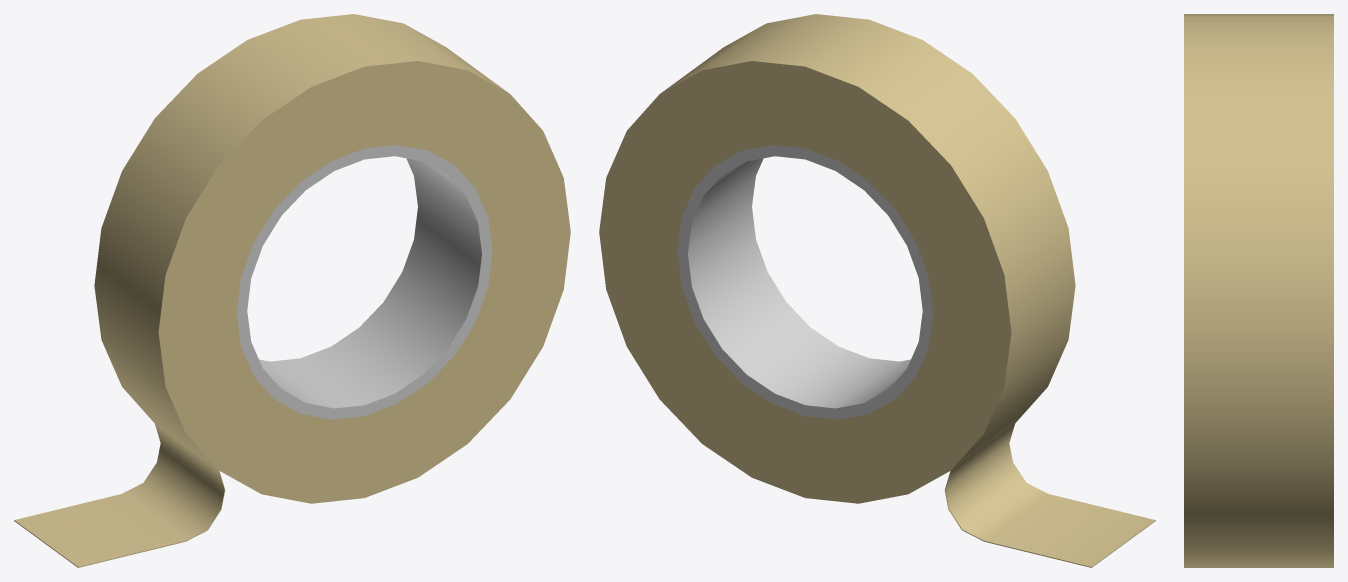
The model's file is sweethome3d-scopia-tape-257.glb.
The picture shows the model from 3 angles, left to right: view 1: azimuth 30°, elevation 25°; view 2: azimuth 150°, elevation 25°; view 3: azimuth 270°, elevation 25°; orthographic projection. The views are drawn at different scales.
Visible parts, largest first — view 1: rouleau_Cylinder; view 2: rouleau_Cylinder; view 3: rouleau_Cylinder.
Part boxes in pixels (left/top/right/bottom): rouleau_Cylinder: left=14, top=14, right=570, bottom=567; rouleau_Cylinder: left=599, top=14, right=1155, bottom=567; rouleau_Cylinder: left=1184, top=14, right=1333, bottom=567.
Bounding box in the file's own units: 15.13 × 12.67 × 3.41.
